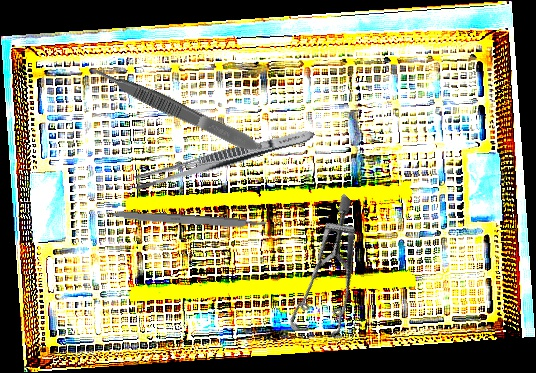Dressing Forceps: (131, 124, 317, 194)
Scalpel Handle: (106, 209, 270, 232)
Speculum: (249, 193, 416, 359)
Tissue Forceps: (88, 59, 261, 157)
